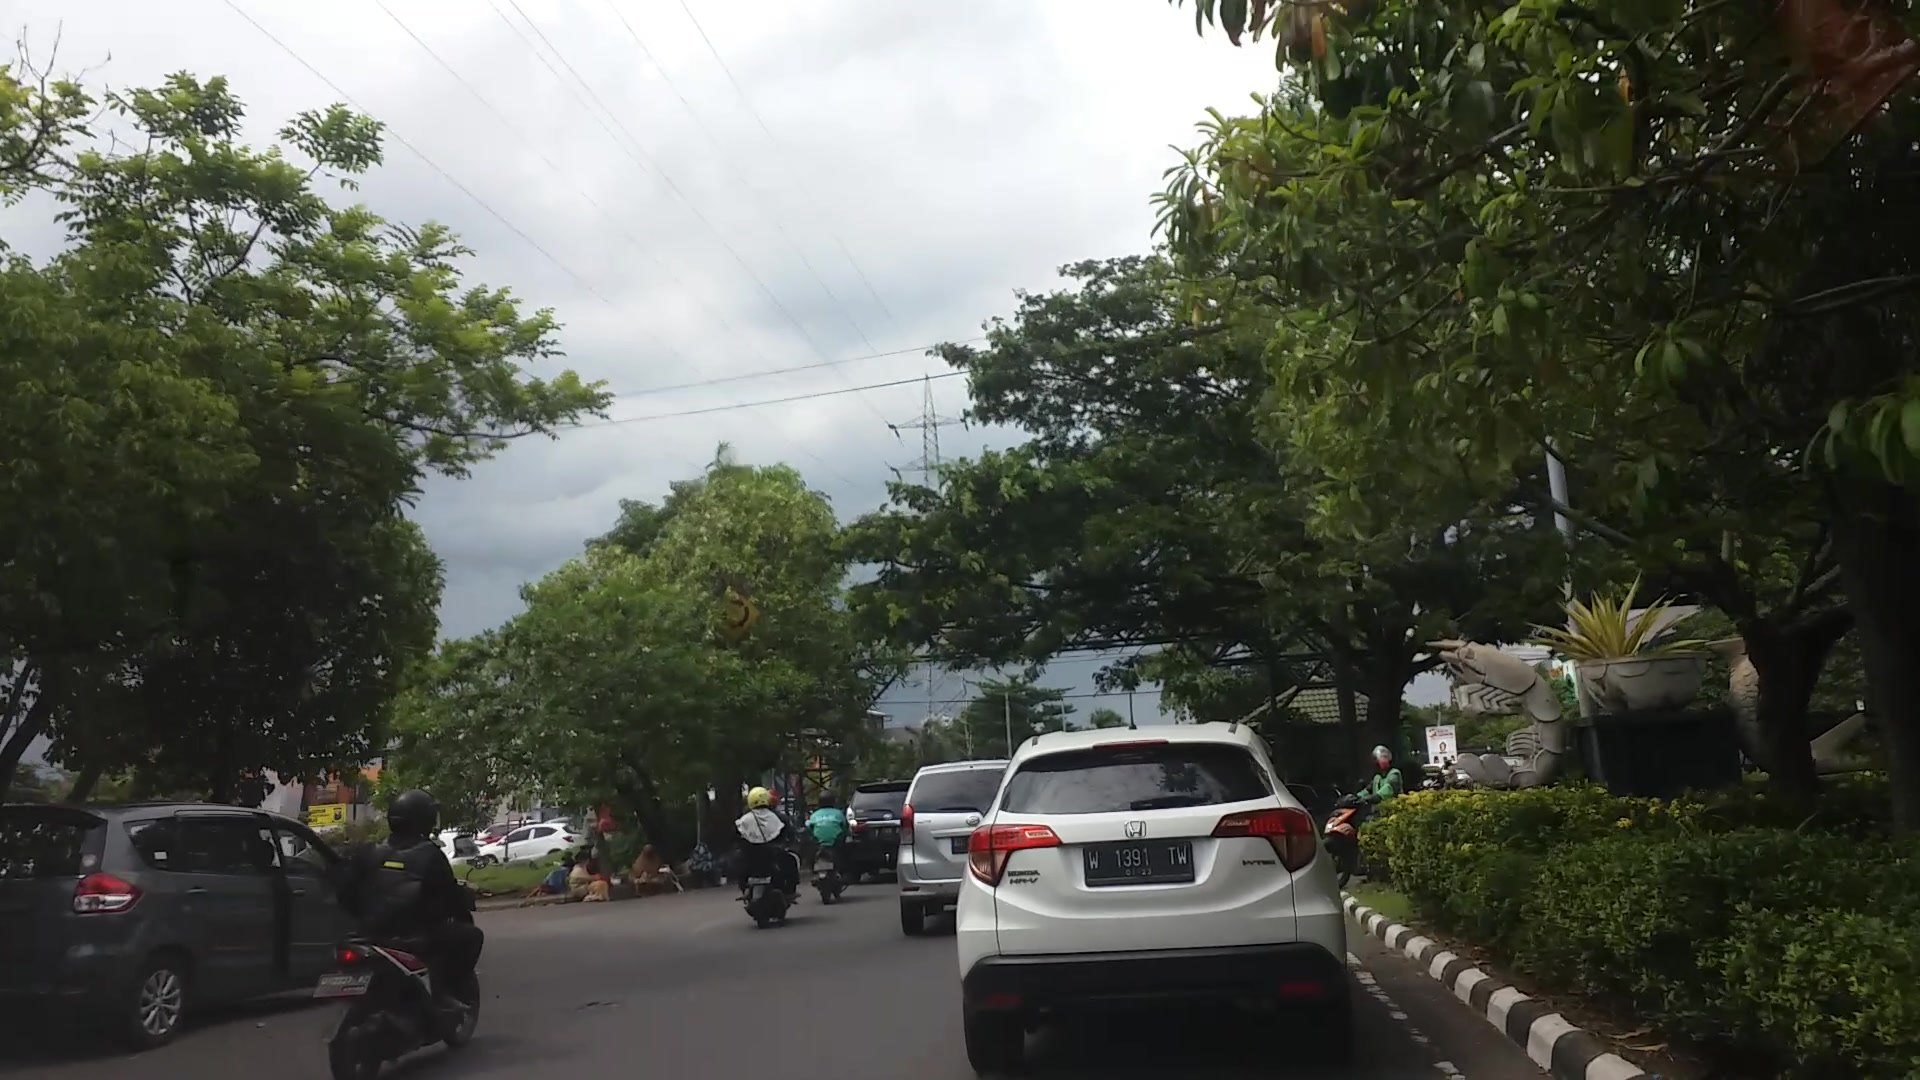plate_positive: (1083, 837, 1193, 884)
